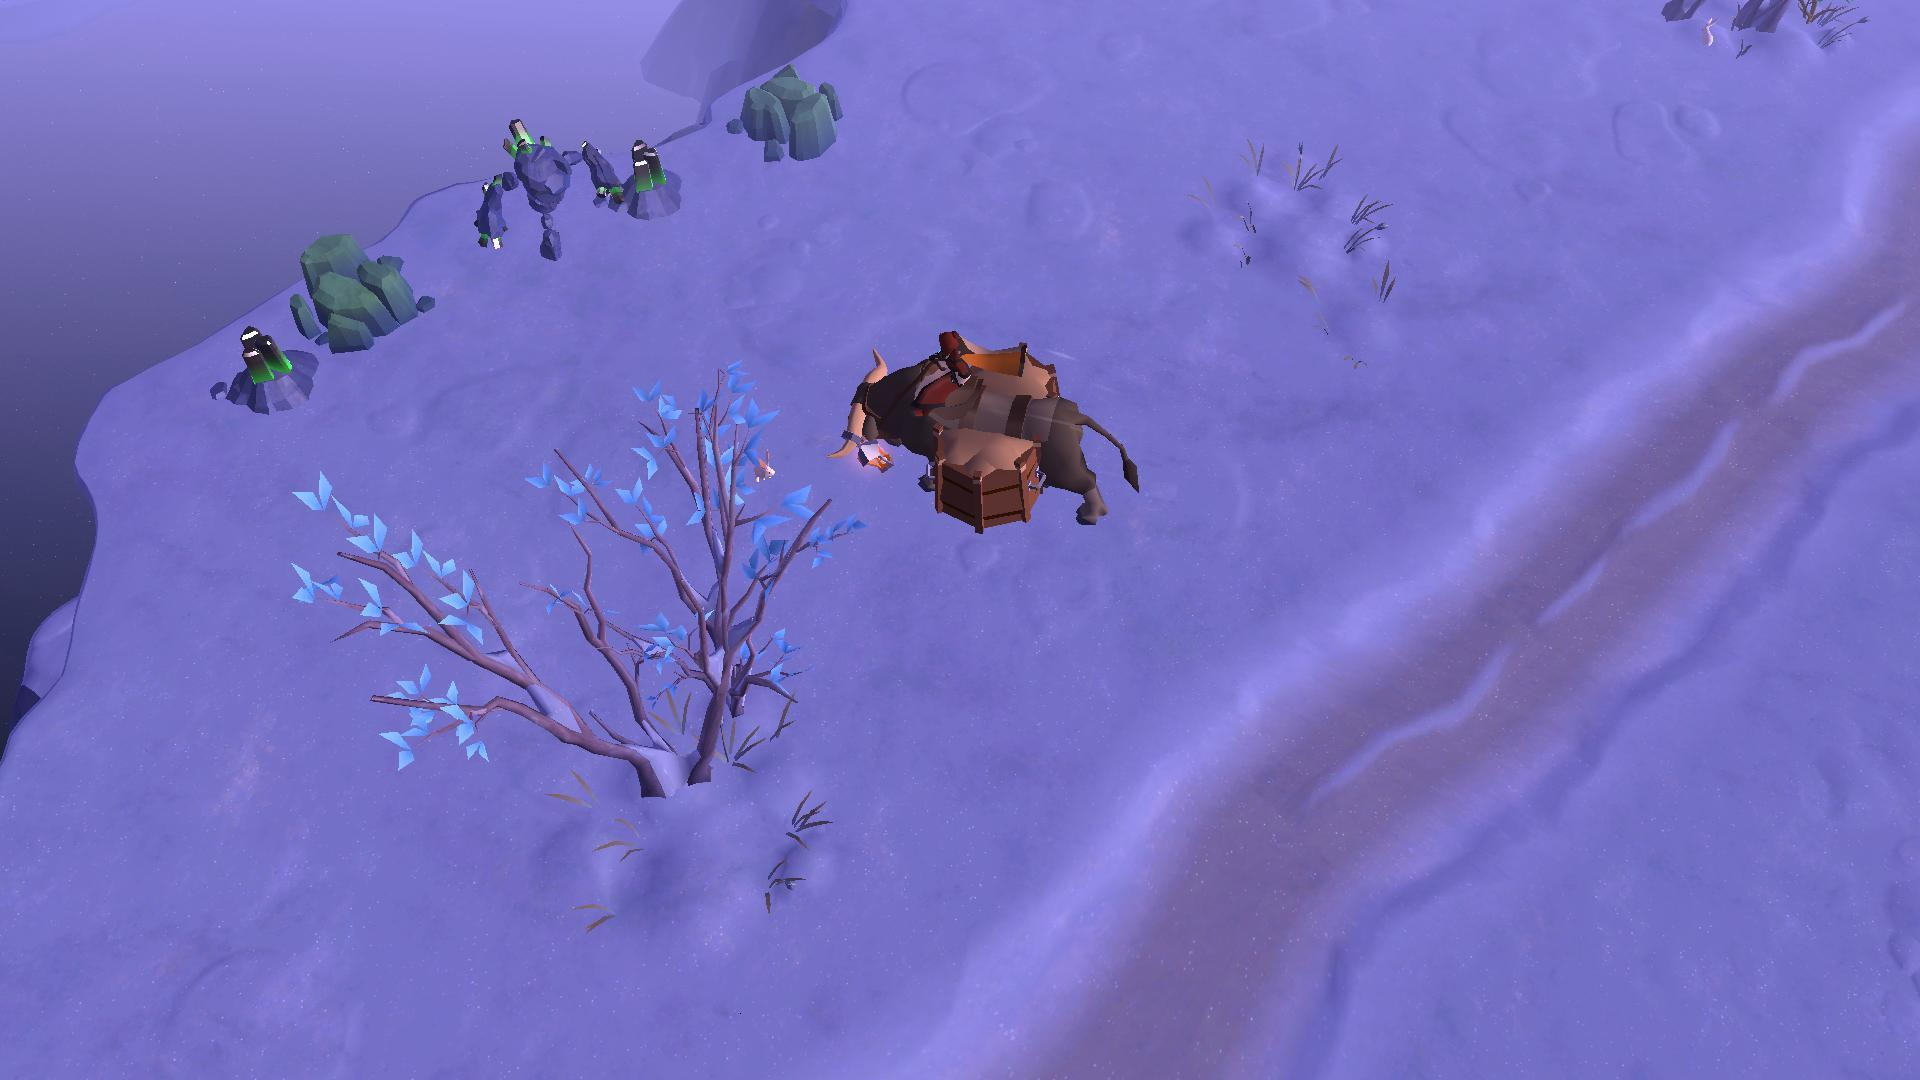ore_t3: (232, 315, 285, 392), (624, 133, 667, 202)
rock_t3: (285, 228, 431, 349), (720, 45, 851, 166)
